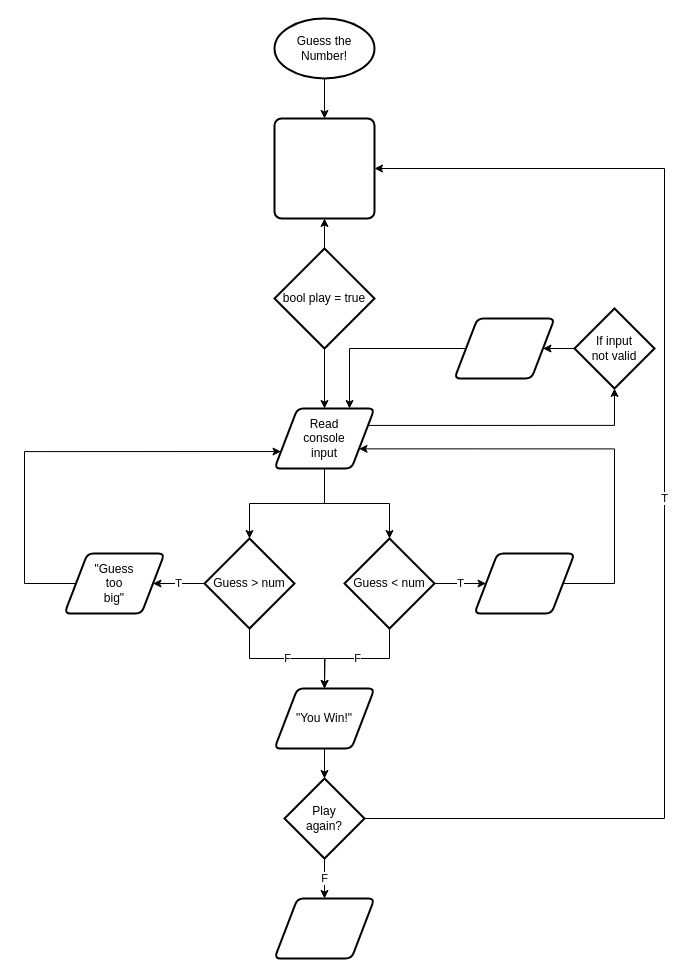
Image size: 690x976. Some labels were removed from this diagram. Each missing label, with the box of its shape:
"Guess too small": (473, 552, 575, 614)
"Thanks for playing.": (273, 897, 375, 959)
Generate random number between 0 and 100: (273, 117, 375, 219)
Output error message: (453, 317, 555, 379)
